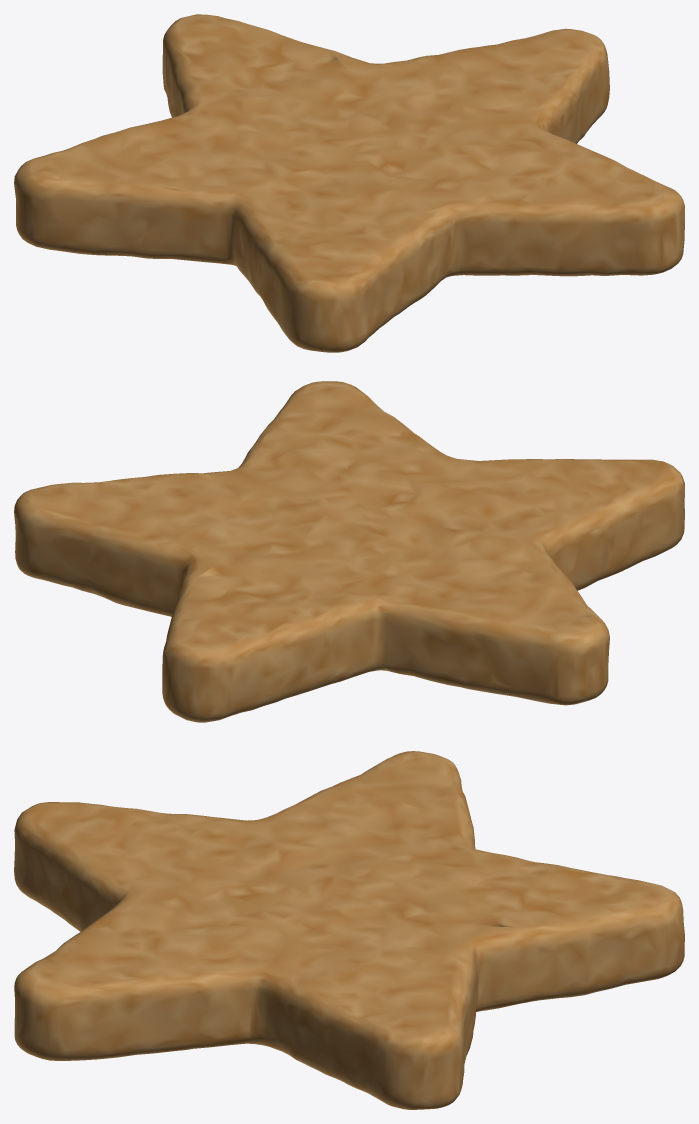
The model's file is stern.glb.
The picture shows the model from 3 angles, top to bottom: view 1: azimuth 30°, elevation 25°; view 2: azimuth 150°, elevation 25°; view 3: azimuth 270°, elevation 25°; orthographic projection. The views are drawn at different scales.
Visible parts, largest first — view 1: cookie; view 2: cookie; view 3: cookie.
Part boxes in pixels (left/top/right/bottom): cookie: left=14, top=14, right=684, bottom=352; cookie: left=14, top=381, right=684, bottom=722; cookie: left=14, top=751, right=684, bottom=1109.
Bounding box in the file's own units: 0.0785 × 0.00972 × 0.0752.
